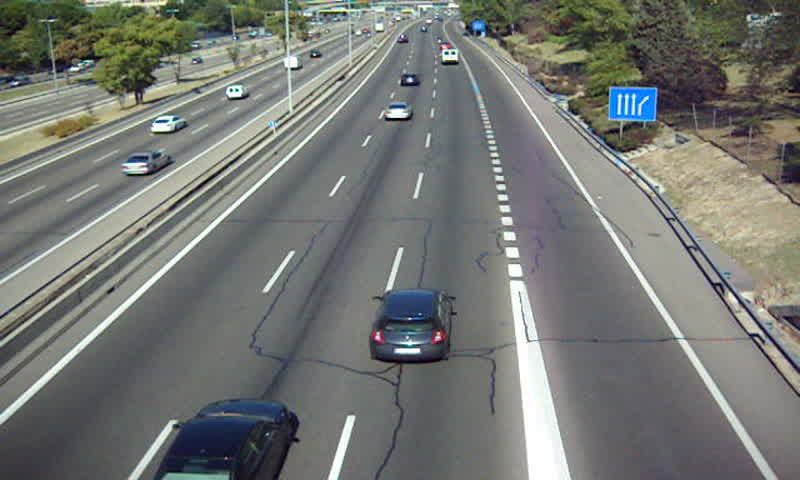car: (151, 399, 290, 480), (371, 291, 450, 364), (383, 101, 413, 122), (400, 72, 419, 89)
van: (441, 48, 459, 64)
